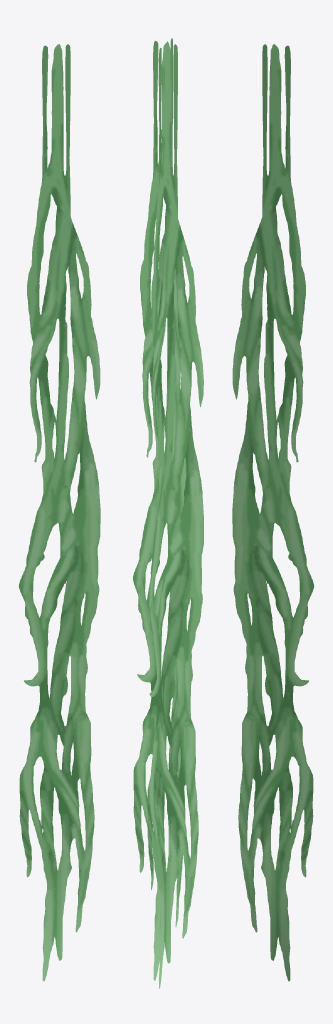
The model's file is SM_ENV_plant_ancient_14_01.fbx.
The picture shows the model from 3 angles, left to right: view 1: azimuth 90°, elevation 25°; view 2: azimuth 150°, elevation 25°; view 3: azimuth 270°, elevation 25°; orthographic projection.
Parts seen in each view (by area): view 1: SM_ENV_plant_ancient_14_01_LOD0; view 2: SM_ENV_plant_ancient_14_01_LOD0; view 3: SM_ENV_plant_ancient_14_01_LOD0.
Boxes of the visible parts, x1,y1,x2,y2 form: SM_ENV_plant_ancient_14_01_LOD0: (18,44,100,981); SM_ENV_plant_ancient_14_01_LOD0: (132,38,203,988); SM_ENV_plant_ancient_14_01_LOD0: (232,44,314,981).
Size of the model in its own units: 33.31 by 409 by 33.31.
